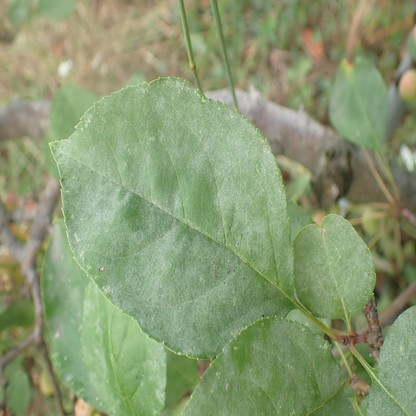powdery_mildew: (48, 76, 292, 358), (179, 318, 349, 416), (293, 213, 375, 321), (368, 305, 416, 416), (82, 283, 119, 414), (143, 340, 167, 403)
